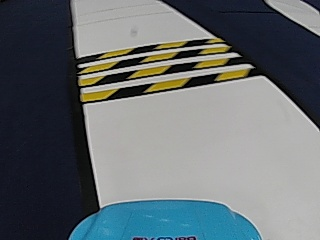bump: (88, 40, 220, 101)
